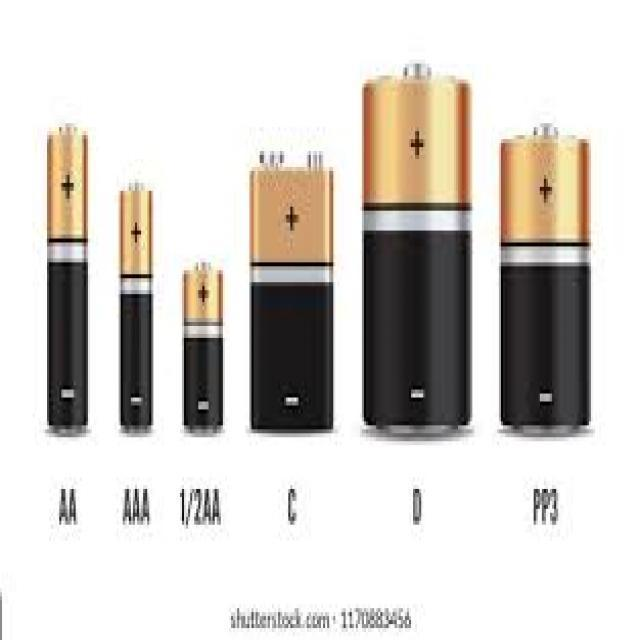battery: (362, 64, 473, 426), (500, 123, 591, 427), (250, 151, 334, 431), (46, 126, 88, 429), (119, 182, 153, 428), (183, 261, 224, 429)
